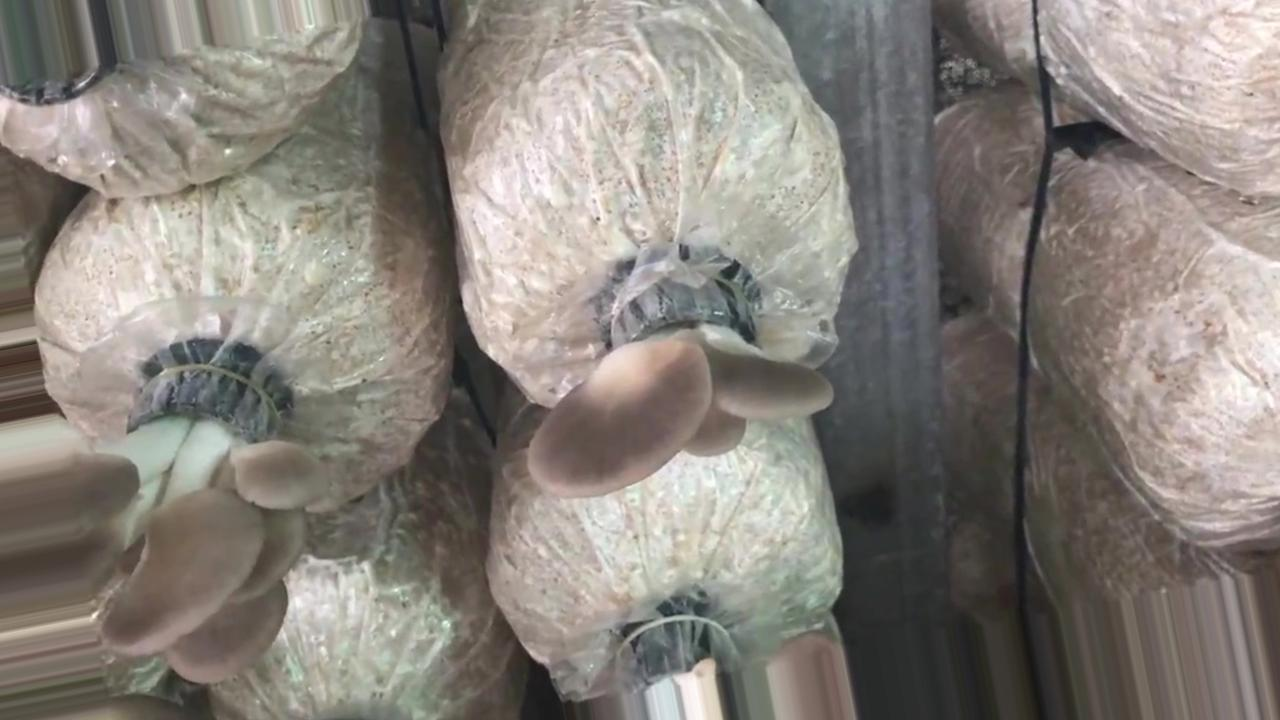nam: (528, 248, 835, 500), (99, 363, 336, 689)
